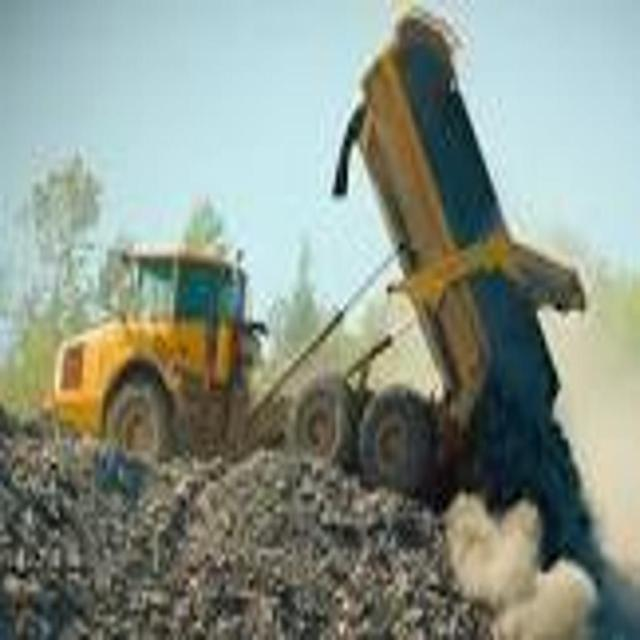dump_truck: (49, 14, 582, 523)
